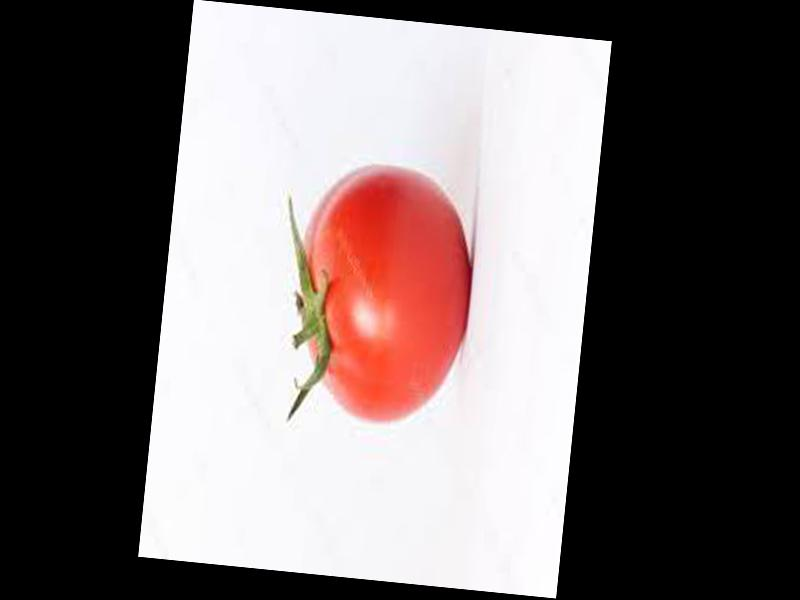Tomato: (289, 155, 483, 429)
